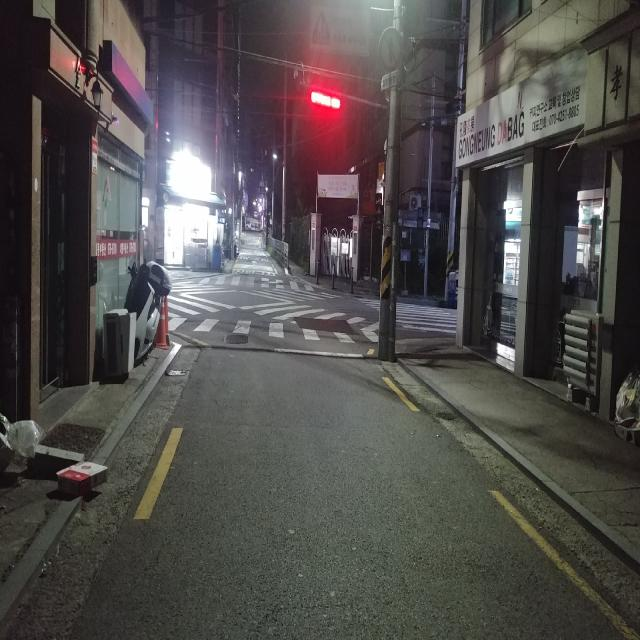횡단보도: (172, 284, 335, 341), (354, 298, 456, 333)
